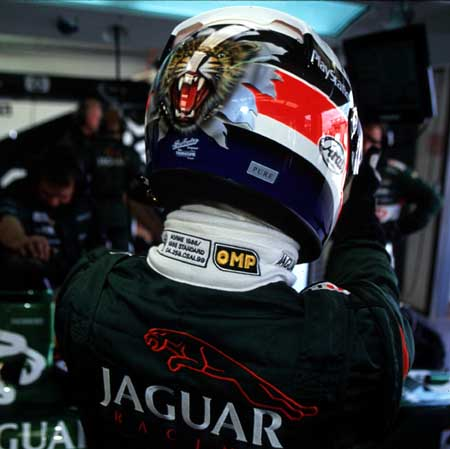helmet: (146, 4, 370, 234)
